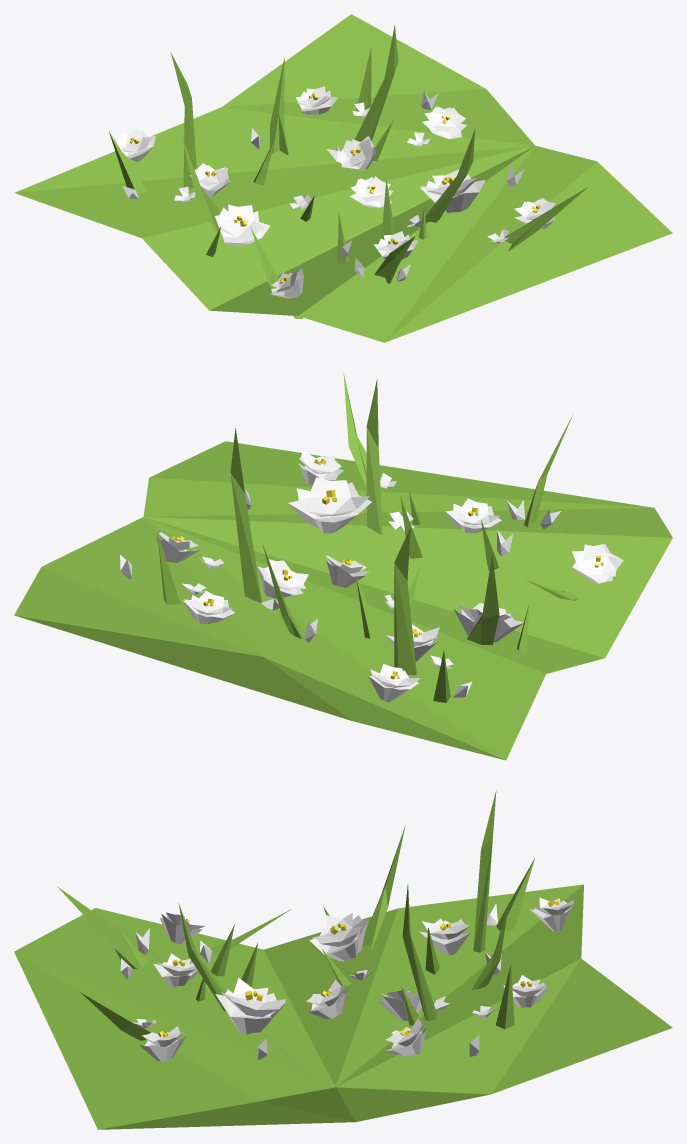
Rendered from InktobVR Day02 Little Flowers.glb.
The picture shows the model from 3 angles, top to bottom: view 1: azimuth 30°, elevation 25°; view 2: azimuth 150°, elevation 25°; view 3: azimuth 270°, elevation 25°; orthographic projection. The views are drawn at different scales.
Parts seen in each view (by area): view 1: group504158168, group1616557242, group810910811, group931708155, group2052233729, group1901333220, group1833731259, group954596859, group465336168, group445006290, group291800948, group1965122626 (+8 smaller); view 2: group504158168, group810910811, group2052233729, group931708155, group954596859, group857055028, group1846415762, group465336168, group1257316560, group1965122626, group624925415, group1616557242 (+8 smaller); view 3: group504158168, group810910811, group1616557242, group2052233729, group64060522, group931708155, group658113434, group1846415762, group445006290, group1151501028, group1901333220, group1257316560 (+9 smaller).
Part boxes in pixels (bbox=[...]): group504158168: bbox=[14, 14, 672, 342]; group1616557242: bbox=[214, 204, 270, 246]; group810910811: bbox=[420, 169, 485, 212]; group931708155: bbox=[354, 25, 398, 141]; group2052233729: bbox=[170, 52, 197, 188]; group1901333220: bbox=[422, 106, 467, 139]; group1833731259: bbox=[270, 57, 288, 154]; group954596859: bbox=[425, 130, 474, 222]; group465336168: bbox=[338, 136, 375, 169]; group445006290: bbox=[350, 176, 393, 208]; group291800948: bbox=[505, 186, 588, 250]; group1965122626: bbox=[117, 128, 155, 161]; group504158168: bbox=[14, 441, 672, 760]; group810910811: bbox=[288, 477, 371, 533]; group2052233729: bbox=[394, 526, 416, 675]; group931708155: bbox=[230, 428, 261, 602]; group954596859: bbox=[366, 378, 382, 535]; group857055028: bbox=[572, 544, 623, 583]; group1846415762: bbox=[467, 554, 499, 645]; group465336168: bbox=[257, 559, 308, 598]; group1257316560: bbox=[445, 498, 501, 533]; group1965122626: bbox=[368, 664, 420, 702]; group624925415: bbox=[183, 591, 234, 624]; group1616557242: bbox=[453, 603, 523, 642]; group504158168: bbox=[14, 884, 672, 1129]; group810910811: bbox=[215, 977, 286, 1034]; group1616557242: bbox=[309, 913, 368, 961]; group2052233729: bbox=[473, 790, 496, 952]; group64060522: bbox=[57, 886, 148, 969]; group931708155: bbox=[402, 884, 436, 1021]; group658113434: bbox=[419, 918, 470, 954]; group1846415762: bbox=[362, 826, 405, 950]; group445006290: bbox=[306, 980, 348, 1019]; group1151501028: bbox=[139, 1026, 186, 1061]; group1901333220: bbox=[384, 1018, 426, 1056]; group1257316560: bbox=[153, 953, 198, 987].
Bounding box in the file's own units: 3.21 × 1.68 × 3.55.
